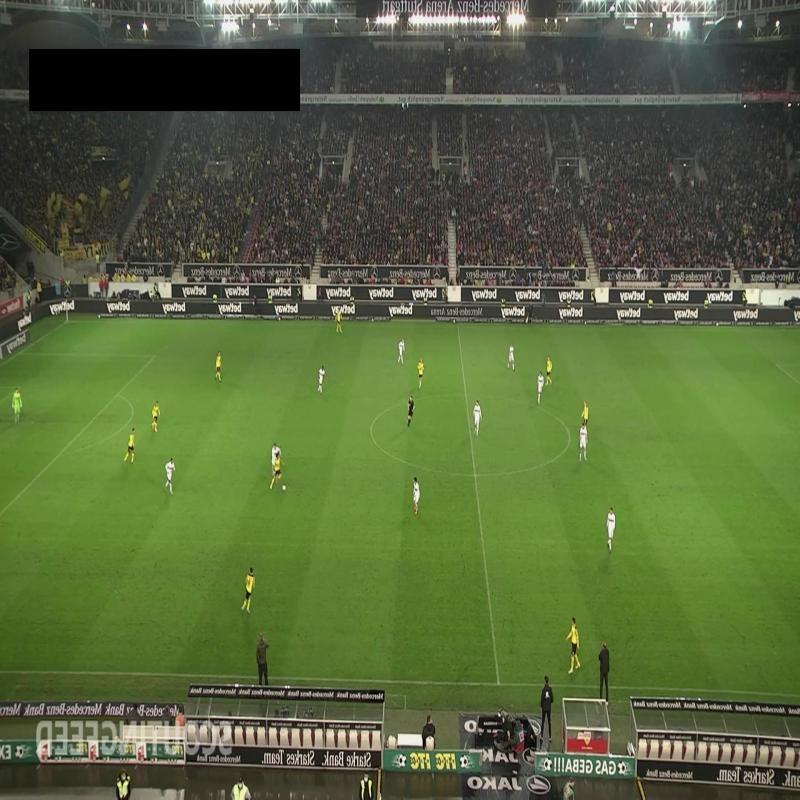1: (60, 314, 75, 328)
10: (110, 388, 125, 403)
11: (50, 449, 64, 463)
13: (451, 320, 466, 334)
14: (458, 388, 472, 402)
15: (468, 468, 482, 482)
16: (491, 677, 505, 691)
2: (12, 347, 26, 360)
7: (10, 380, 24, 394)
9: (148, 347, 164, 365), (770, 358, 784, 372)
c: (363, 424, 379, 440), (562, 424, 576, 438)
